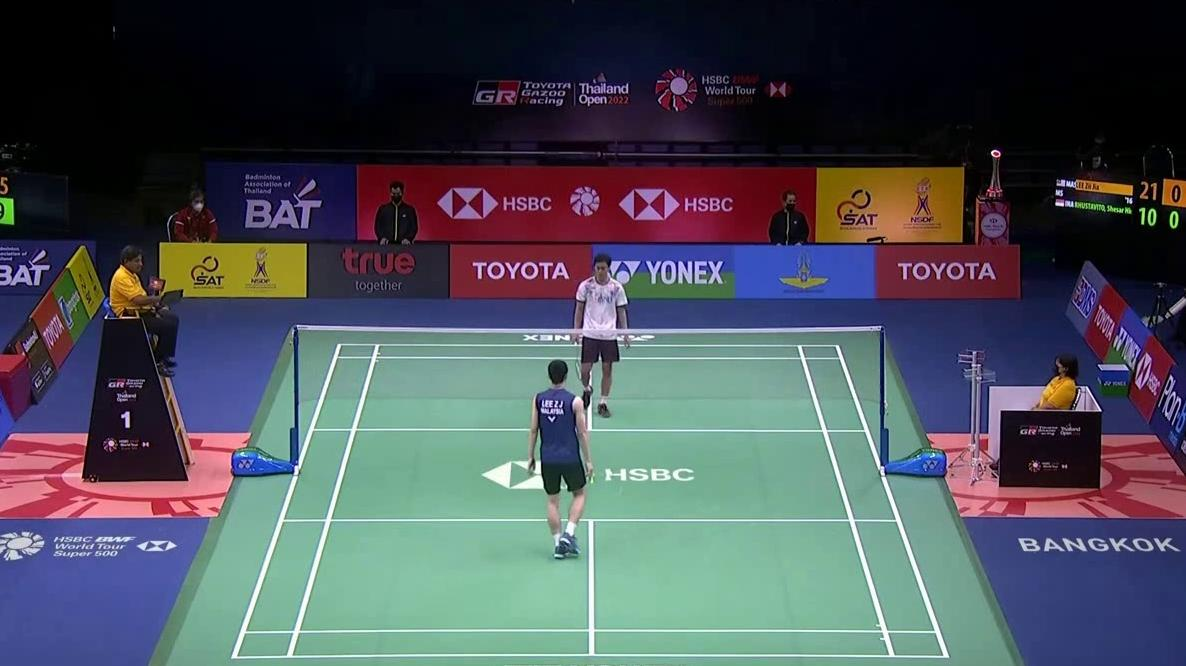racket: (574, 334, 581, 379)
shuttle: (606, 470, 613, 476)
